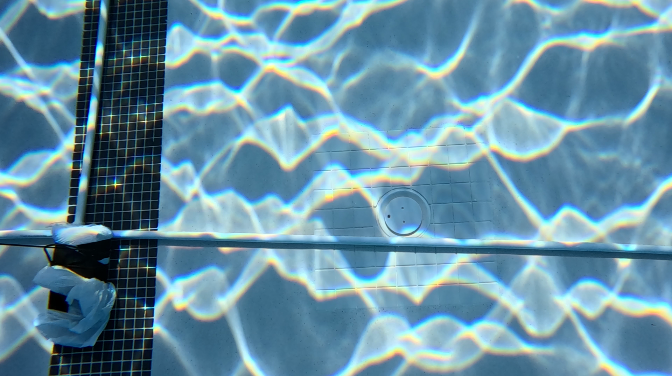sandbag: (34, 223, 109, 345)
